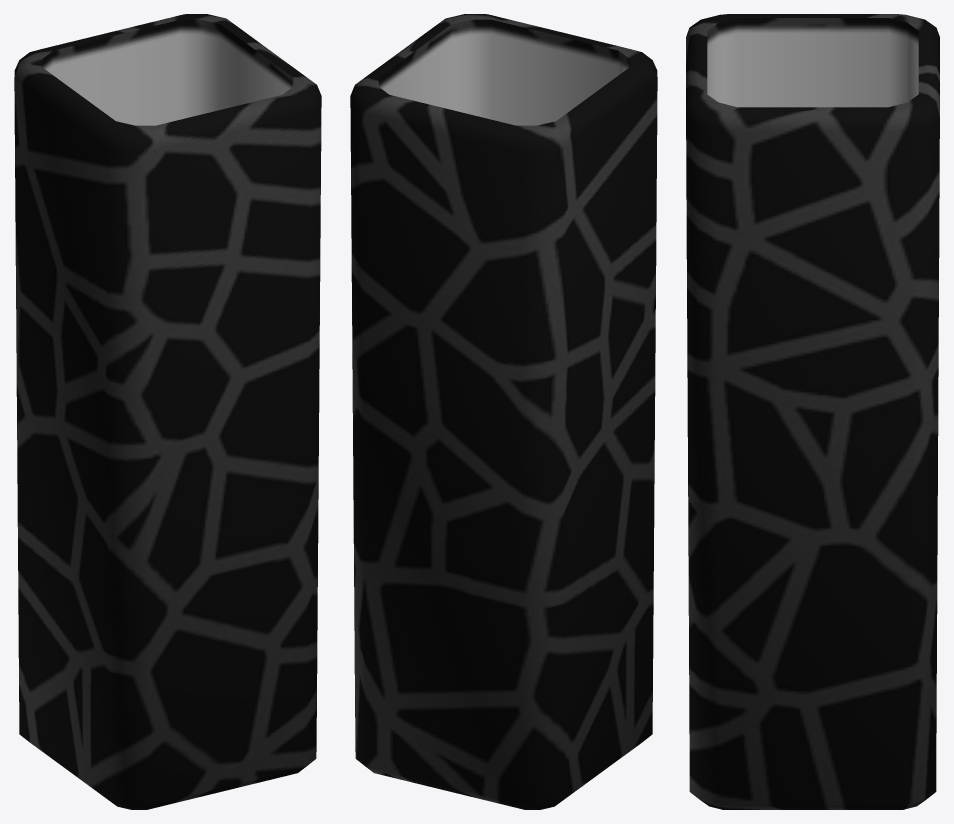
The model's file is VaseB.FBX.
3 renders of one model, left to right at view 1: azimuth 30°, elevation 25°; view 2: azimuth 150°, elevation 25°; view 3: azimuth 270°, elevation 25°, orthographic. The views are drawn at different scales.
Parts seen in each view (by area): view 1: VaseB_LOD0; view 2: VaseB_LOD0; view 3: VaseB_LOD0.
Boxes of the visible parts, bbox=[...] form: VaseB_LOD0: bbox=[14, 14, 321, 809]; VaseB_LOD0: bbox=[350, 14, 657, 809]; VaseB_LOD0: bbox=[686, 14, 939, 809].
Size of what is drawn, in the model's own units: 8.41 by 25.58 by 8.41.
